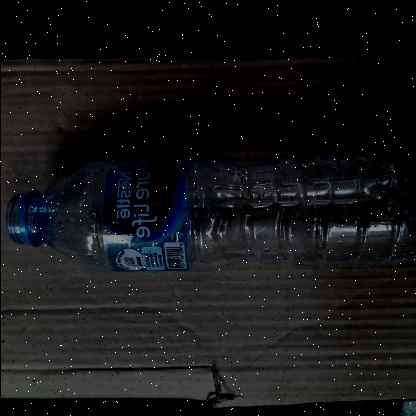Plastic Bottle: (0, 150, 416, 272)
